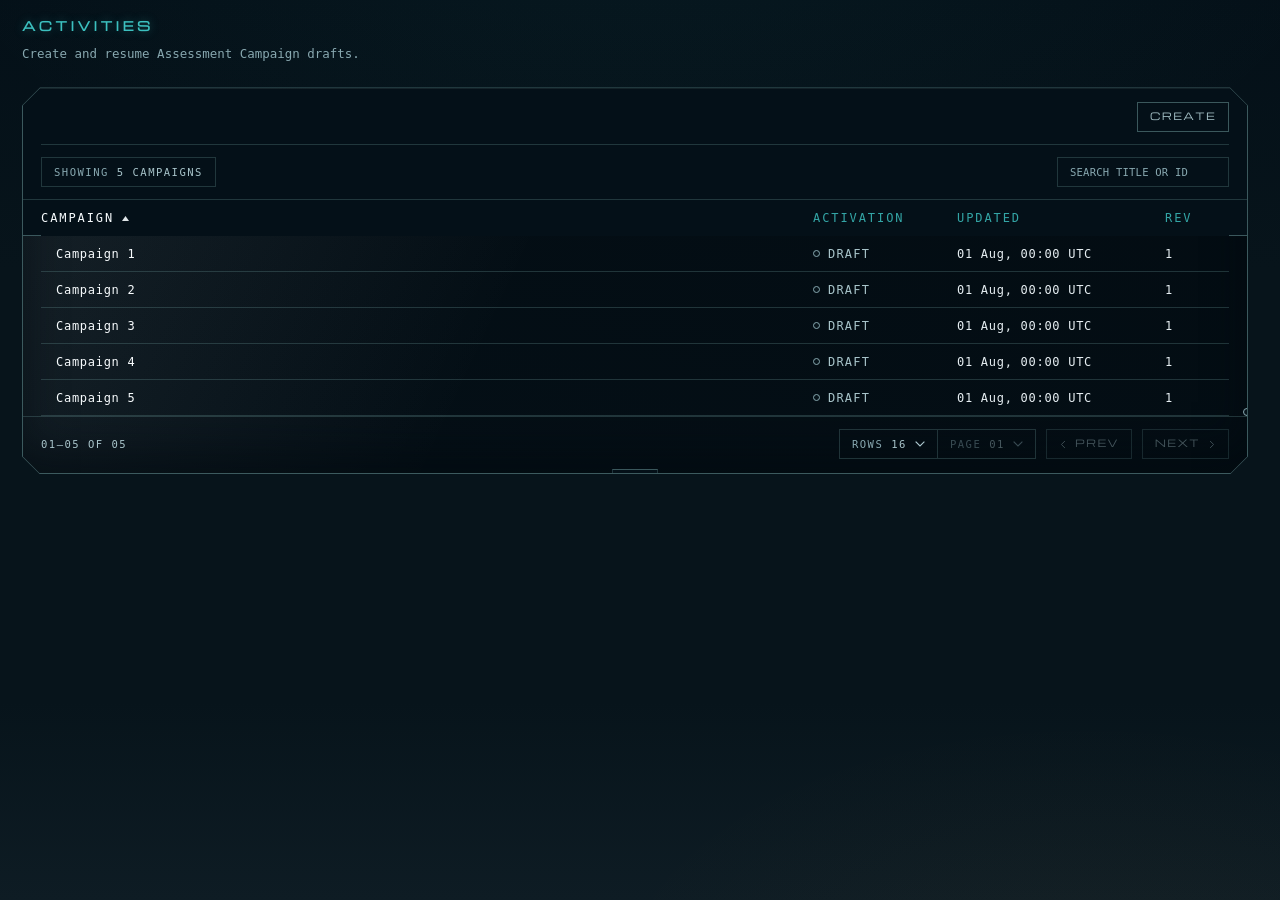
Test case: AssessmentActivitiesPage › fills the registry bay when more than four activities are loaded
Type "zzz-no-match" into the search field named "Search campaign title or ID" at (1143, 172), box x1=1058 y1=158 x2=1228 y2=186
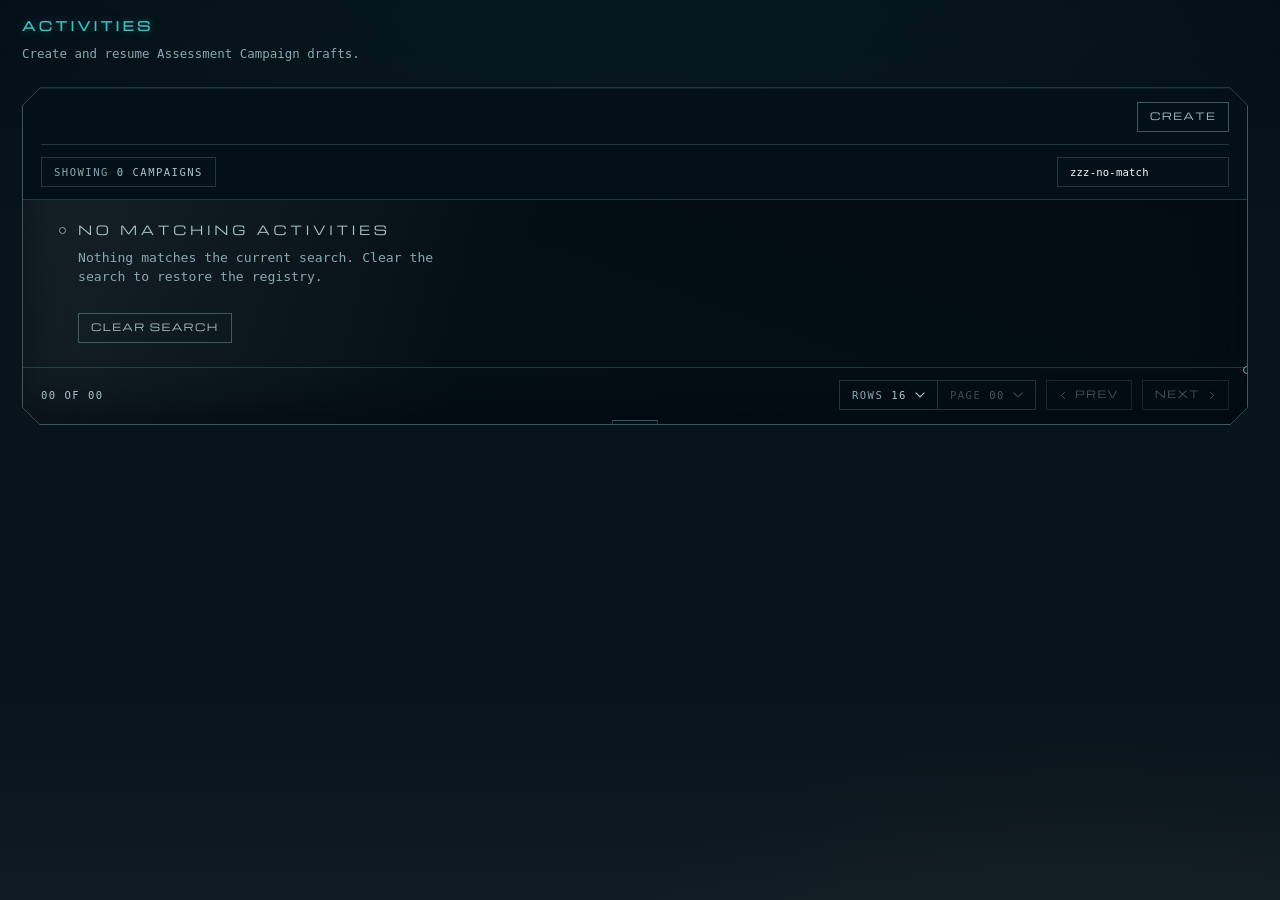
Now the text "No matching activities" is shown, box x1=78 y1=220 x2=390 y2=240
